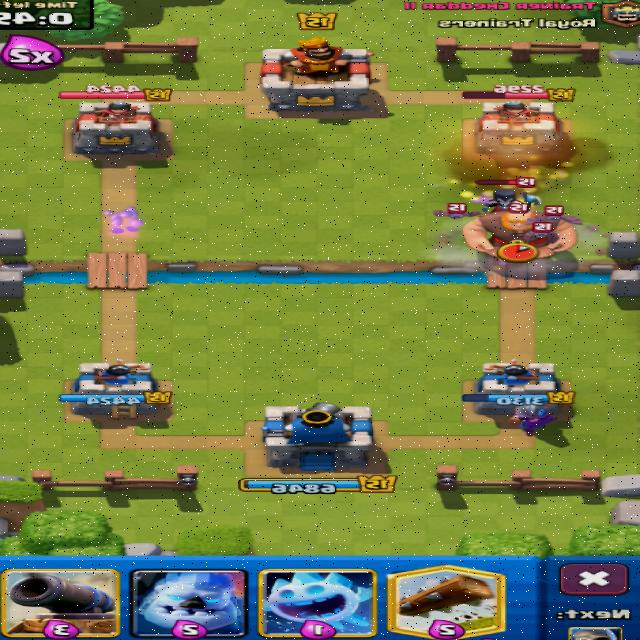Enemy-Bat: (527, 206, 581, 224), (530, 214, 581, 228), (434, 204, 481, 219), (531, 222, 558, 241)
Enemy-KingTower: (261, 38, 373, 112)
Enemy-NightWitch: (477, 176, 541, 211), (479, 187, 519, 212)
Enemy-PrincessTower: (477, 101, 569, 167), (74, 101, 163, 160)
Player-KingTower-Activated: (263, 403, 372, 470)
Player-Musketeer-Evo: (511, 405, 556, 436)
Player-PrincessTower: (60, 360, 170, 417), (463, 360, 575, 414)
